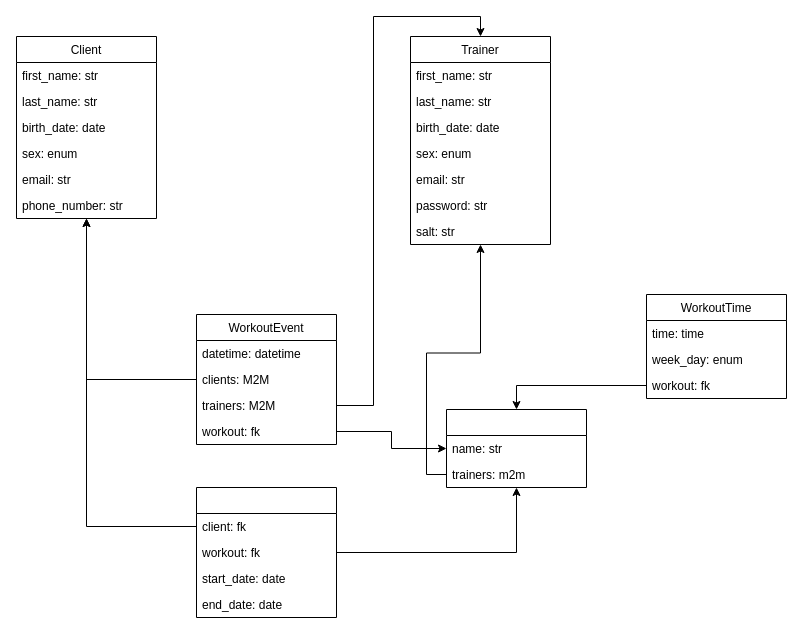
Some shapes in this 803 by 634 pixel diagram are drawn without their labels. The shapes that lost their labels are listed below. From the top down, each one's box as (x1, y1, x2, y2) in pixels, then its label:
(446, 408, 586, 488): Workout
(196, 486, 336, 618): SeasonTicket
